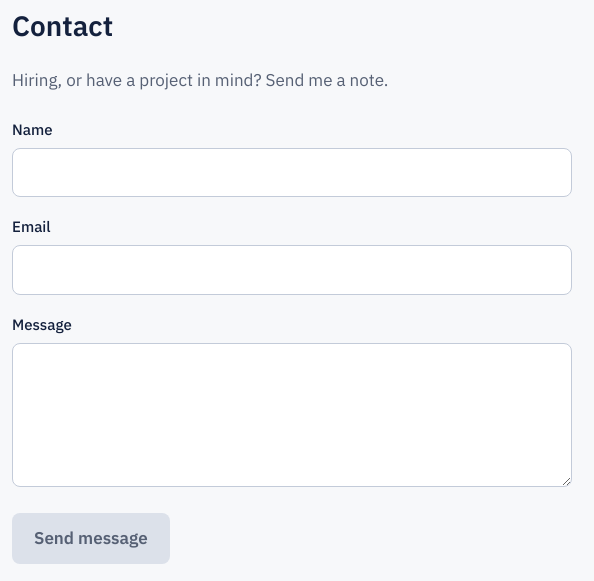
Contact › disables the send button until every field is filled in
Expected: the button "Send message" is disabled, [12,513,170,564]
In the field labelled "Name": [292, 173] box [12,148,572,197], type "Test User"
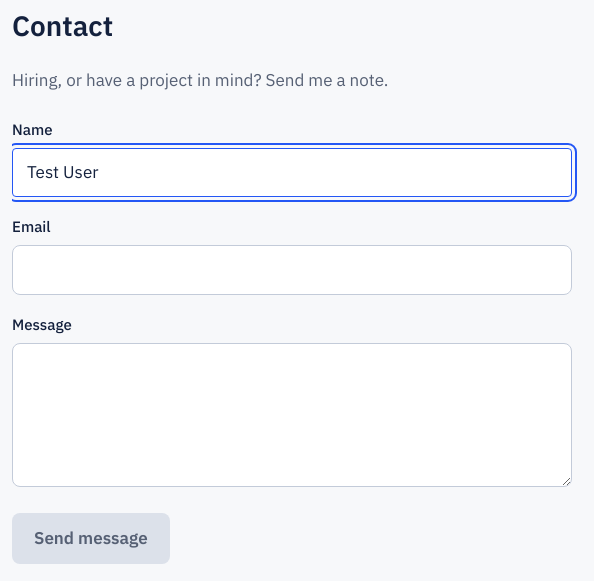
Expected: the button "Send message" is disabled, [12,513,170,564]
In the field labelled "Email": [292, 270] box [12,245,572,295], type "test@example.com"
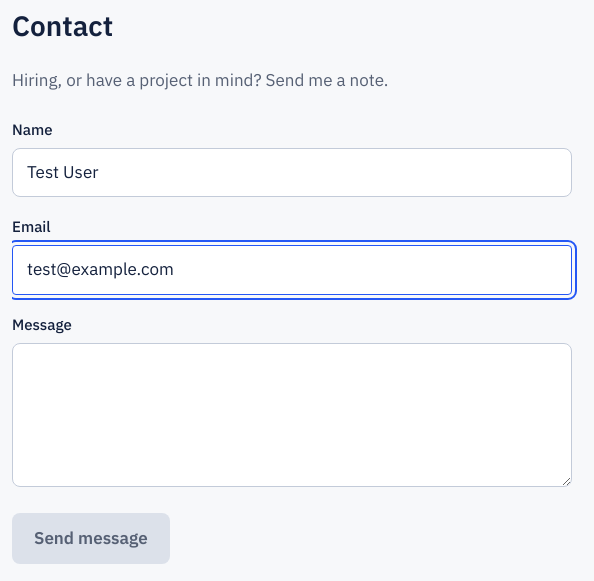
Expected: the button "Send message" is disabled, [12,513,170,564]
In the text box labelled "Message": [292, 415] box [12,343,572,487], type "Hello!"
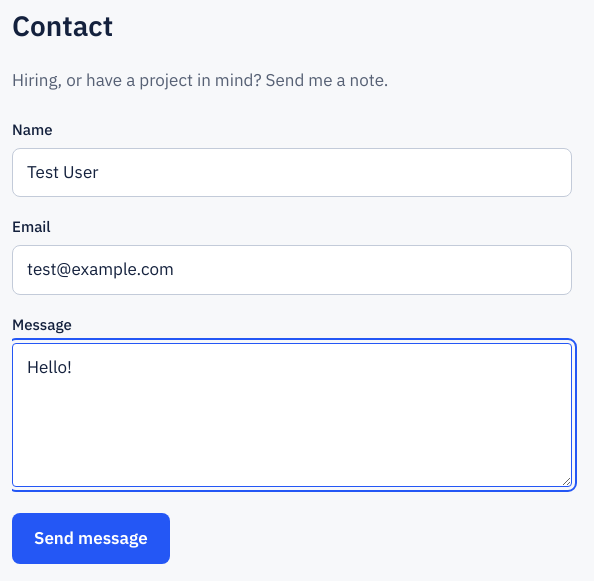
Expected: the button "Send message" is enabled, [12,513,170,564]
